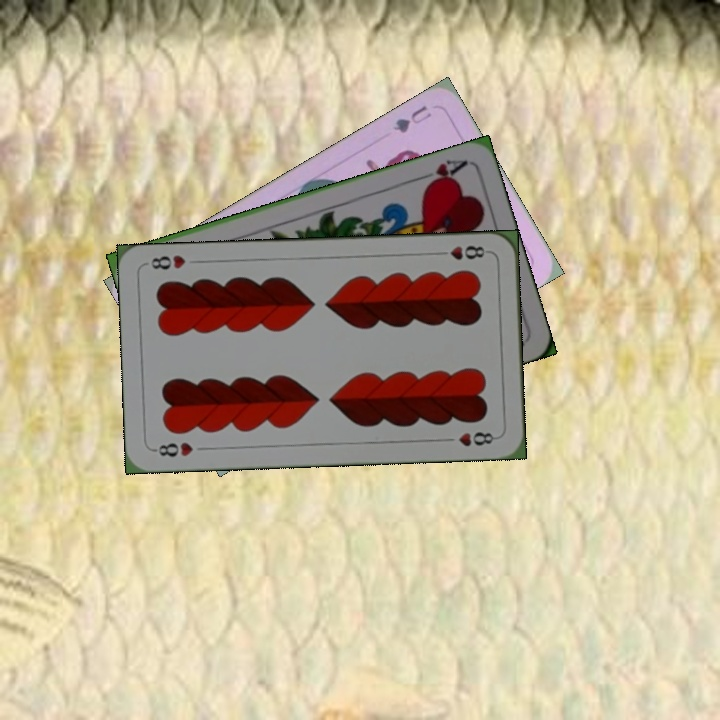GU: (389, 101, 434, 136)
H8: (433, 241, 492, 262), (150, 438, 196, 459)
HA: (412, 155, 470, 191)
